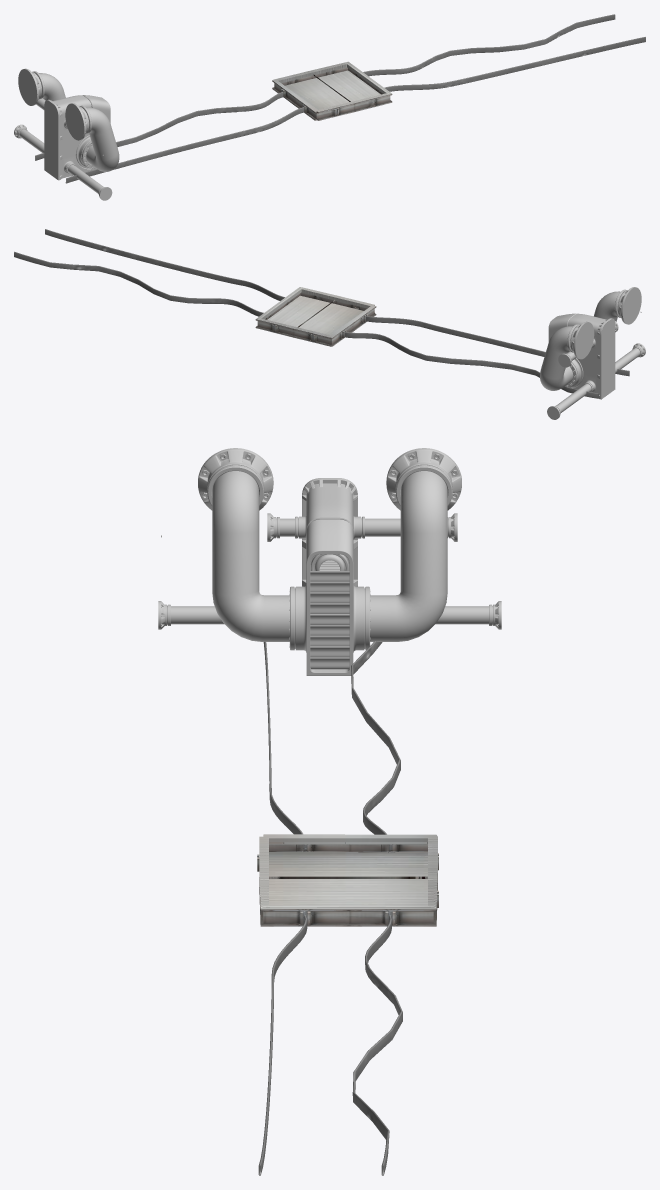
The model's file is MainBOTONmedio.fbx.
3 views of the same model, one above another, from view 1: azimuth 30°, elevation 25°; view 2: azimuth 150°, elevation 25°; view 3: azimuth 270°, elevation 25° (orthographic). The views are drawn at different scales.
Visible parts, largest first — view 1: props_1, Cube.371, BezierCurve.007, BezierCurve.008, BezierCurve.009, BezierCurve.010; view 2: props_1, Cube.371, BezierCurve.008, BezierCurve.007, BezierCurve.010, BezierCurve.009; view 3: props_1, Cube.371, BezierCurve.008, BezierCurve.010, BezierCurve.007.
Part boxes in pixels (box(x1,y1,x2,y2)): props_1: box(14, 68, 119, 200); Cube.371: box(272, 61, 392, 120); BezierCurve.007: box(384, 37, 645, 91); BezierCurve.008: box(363, 14, 615, 76); BezierCurve.009: box(65, 107, 304, 183); BezierCurve.010: box(35, 92, 283, 160); props_1: box(540, 287, 645, 419); Cube.371: box(255, 287, 376, 346); BezierCurve.008: box(14, 251, 263, 316); BezierCurve.007: box(45, 229, 284, 300); BezierCurve.010: box(344, 332, 598, 398); BezierCurve.009: box(366, 316, 629, 376); props_1: box(158, 448, 501, 675); Cube.371: box(257, 834, 438, 926); BezierCurve.008: box(352, 915, 402, 1175); BezierCurve.010: box(351, 641, 400, 852); BezierCurve.007: box(258, 915, 307, 1175).
Bounding box in the file's own units: 2523 × 365 × 647.
